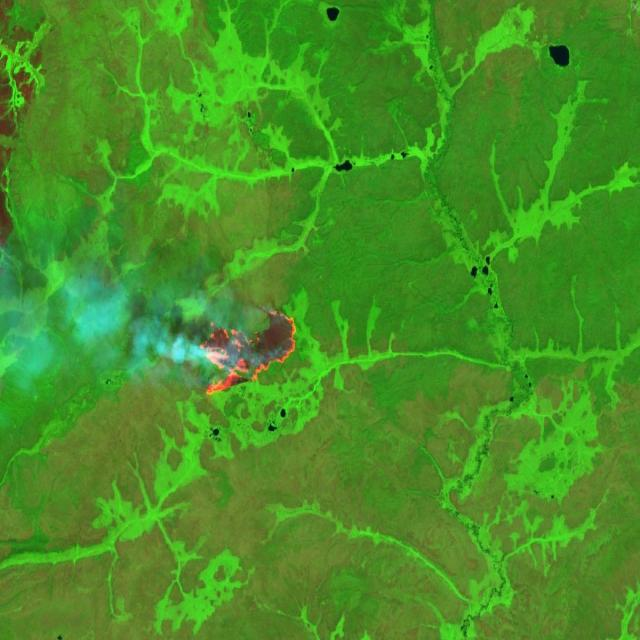fire: (198, 300, 300, 399)
